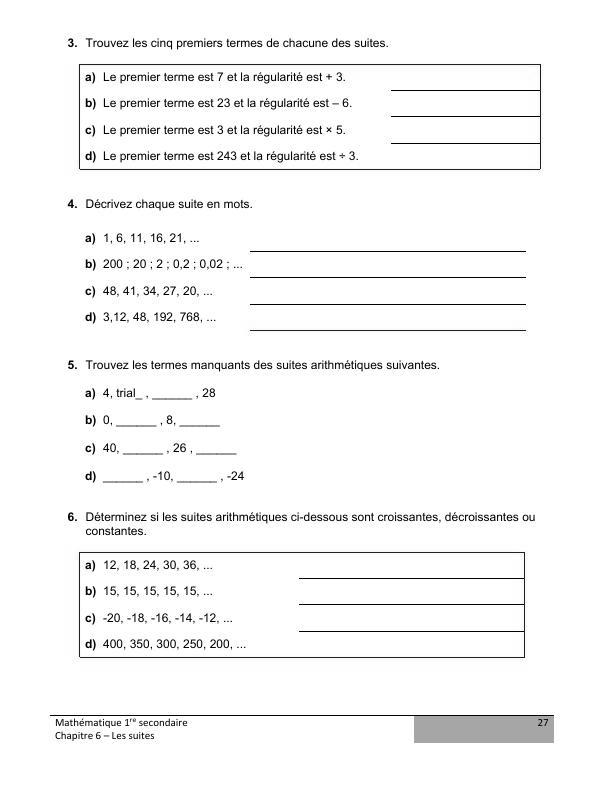input: (249, 234, 529, 255), (247, 289, 534, 308), (249, 261, 529, 280), (247, 316, 527, 335), (295, 619, 524, 640), (294, 566, 525, 583), (81, 439, 243, 460), (388, 76, 540, 97), (295, 593, 523, 607), (82, 412, 225, 433), (82, 466, 247, 484), (389, 103, 540, 122), (388, 131, 539, 149), (81, 385, 221, 403)
text: (65, 504, 539, 537), (64, 355, 446, 375), (66, 34, 390, 53), (82, 91, 354, 112), (81, 66, 349, 86), (83, 145, 358, 164), (63, 193, 258, 215), (83, 121, 349, 137), (83, 633, 249, 654), (84, 255, 242, 275), (84, 608, 240, 628), (82, 580, 221, 600), (81, 556, 217, 574), (83, 308, 217, 326), (84, 282, 215, 299), (82, 228, 205, 246)
